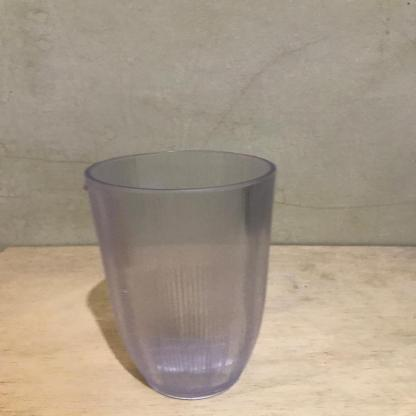glass: (71, 151, 301, 401)
